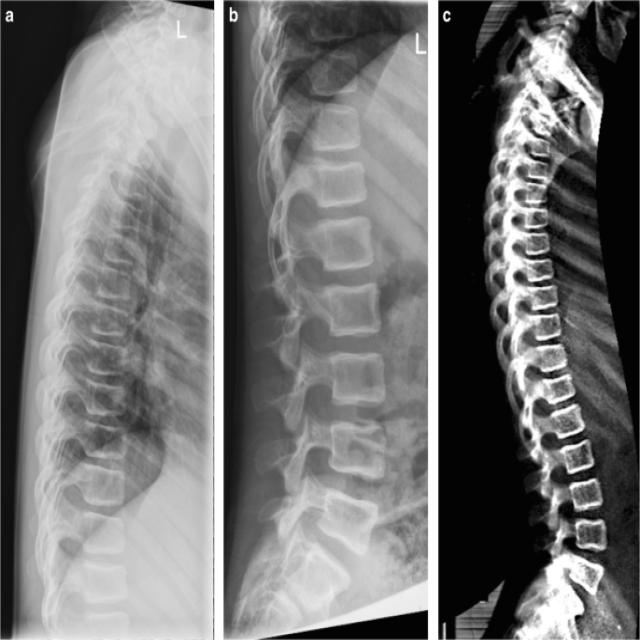fracture: (300, 402, 423, 516)
